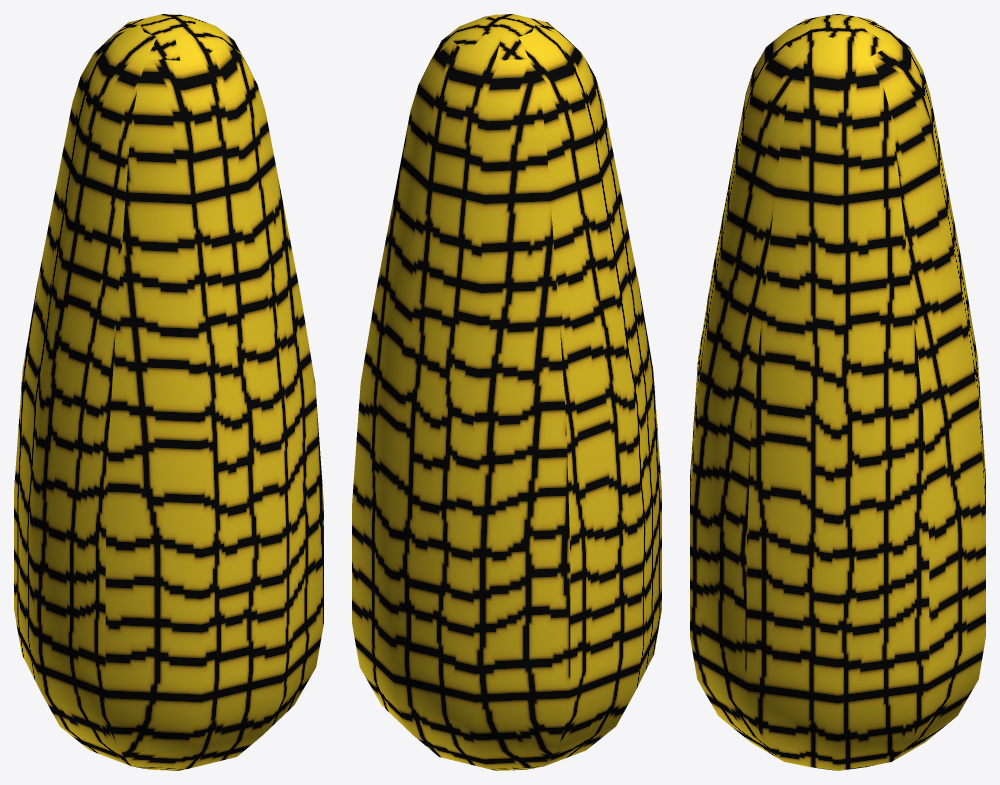
The model's file is maize.fbx.
The picture shows the model from 3 angles, left to right: view 1: azimuth 30°, elevation 25°; view 2: azimuth 150°, elevation 25°; view 3: azimuth 270°, elevation 25°; orthographic projection.
Parts seen in each view (by area): view 1: Maize; view 2: Maize; view 3: Maize.
Part boxes in pixels (bbox=[...]): Maize: bbox=[14, 14, 323, 770]; Maize: bbox=[352, 14, 661, 770]; Maize: bbox=[690, 14, 985, 770].
Bounding box in the file's own units: 10 × 26.08 × 9.51.
